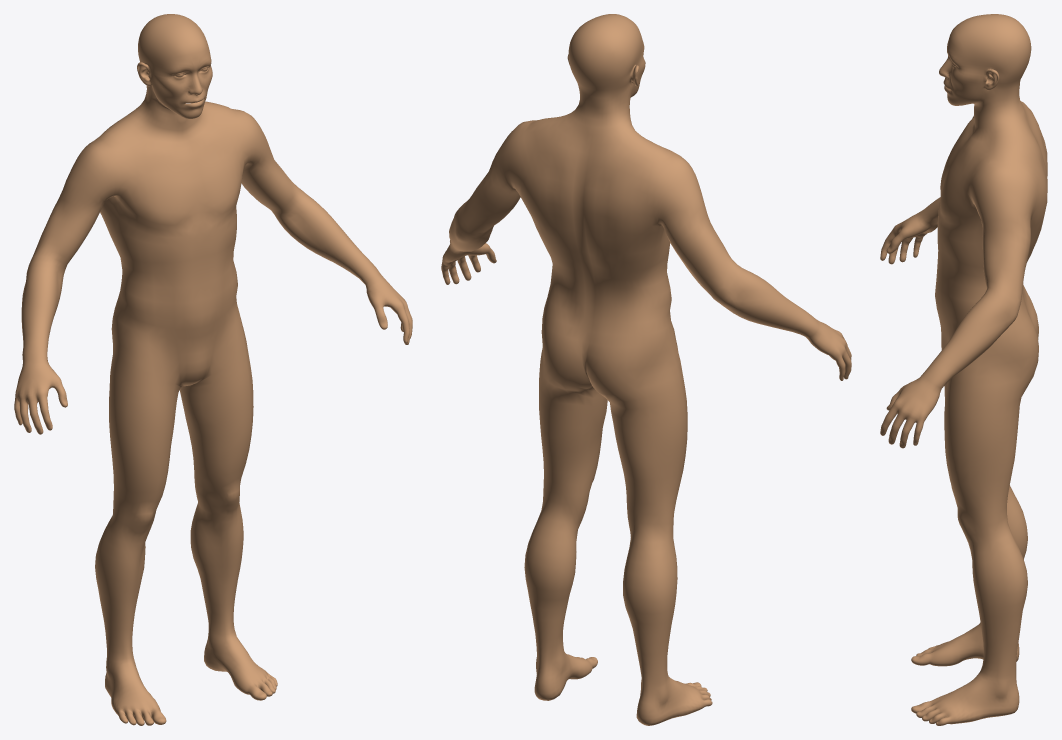
File: maniqui-hombre.glb
3 views of the same model, side by side, from view 1: azimuth 30°, elevation 25°; view 2: azimuth 150°, elevation 25°; view 3: azimuth 270°, elevation 25° (orthographic). The views are drawn at different scales.
Parts seen in each view (by area): view 1: cuerpo; view 2: cuerpo; view 3: cuerpo.
Boxes of the visible parts, x1,y1,x2,y2 form: cuerpo: (14,14,412,725); cuerpo: (441,14,851,725); cuerpo: (880,14,1047,725).
Bounding box in the file's own units: 1.07 × 1.75 × 0.3952.
